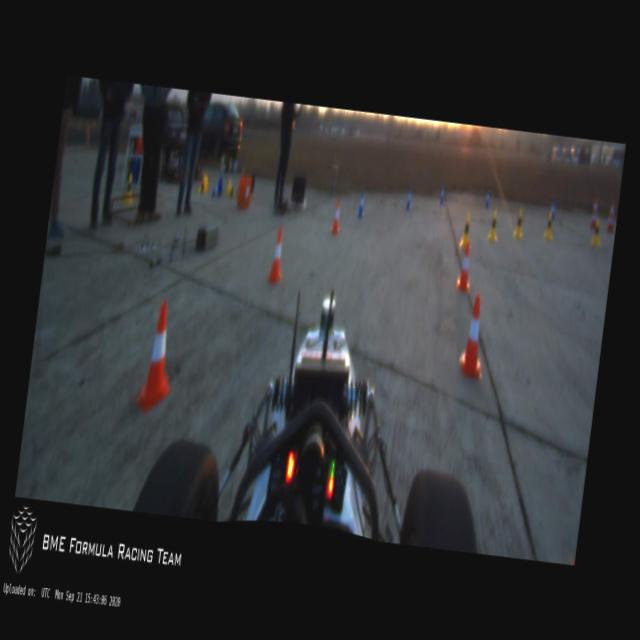blue_cone: (356, 188, 365, 216), (212, 176, 224, 196), (404, 186, 412, 209), (483, 189, 491, 210), (438, 184, 445, 207), (549, 201, 557, 220)
large_orange_cone: (604, 195, 618, 234), (588, 195, 600, 230)
orange_cone: (136, 300, 180, 414), (458, 294, 491, 382), (266, 226, 287, 284), (457, 240, 475, 290), (329, 198, 342, 234)
yellow_cone: (459, 212, 474, 250), (486, 208, 502, 242), (512, 204, 525, 240), (590, 219, 603, 247), (544, 208, 555, 240), (123, 173, 134, 202), (197, 173, 209, 192), (225, 179, 236, 197)
